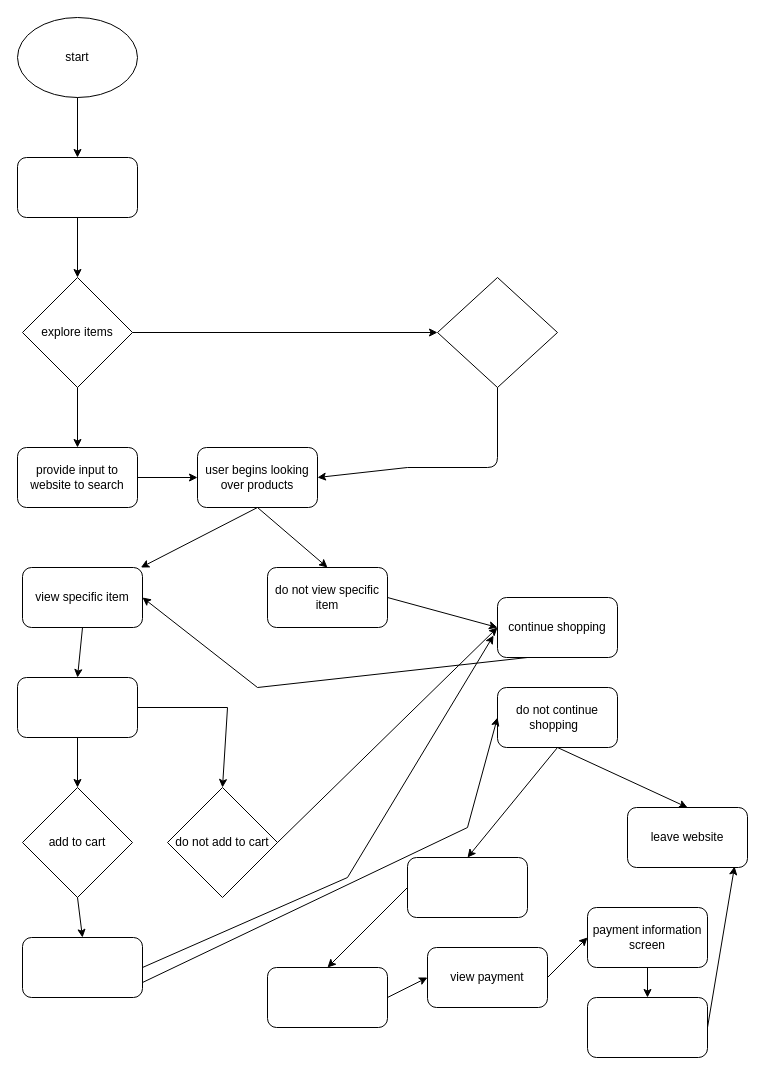
Image size: 765x1075. Some labels were removed from this diagram. The shapes that lost their labels are listed below. From the top down, each one's box as (x1, y1, x2, y2) in pixels, then its label:
(16, 156, 138, 218): user enters website
(436, 276, 558, 388): search items on home page
(16, 676, 138, 738): go to item homepage
(406, 856, 528, 918): go to checkout
(22, 936, 142, 998): user confirmation
(266, 966, 388, 1028): view cart
(586, 996, 708, 1058): order confirmation and email
